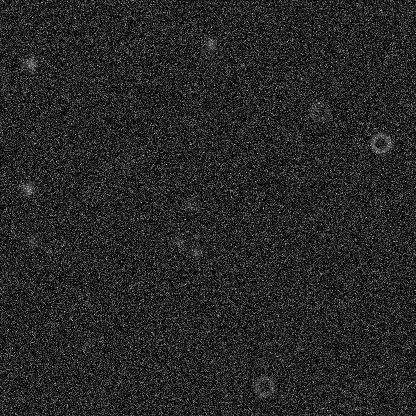Ring: (306, 99, 330, 123), (368, 131, 392, 155), (252, 374, 276, 398)
Spot: (19, 180, 35, 196), (22, 55, 38, 71), (188, 244, 204, 260), (25, 231, 41, 247), (180, 197, 196, 213), (203, 36, 219, 52), (172, 235, 188, 251)
